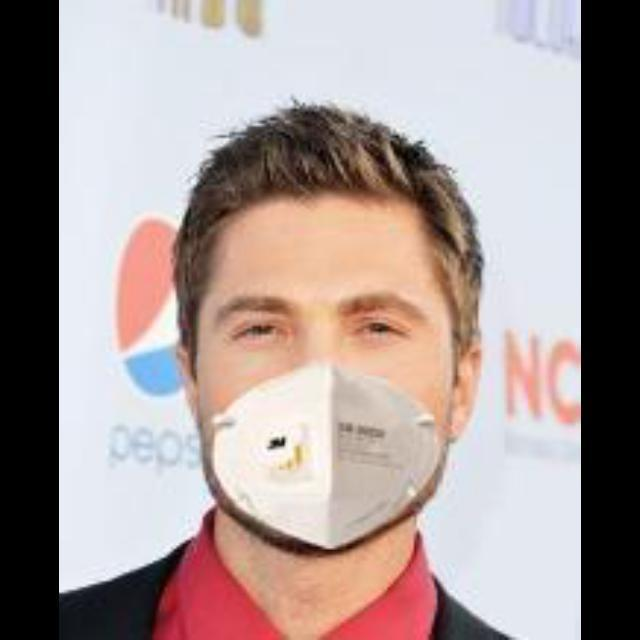suspicion: (217, 149, 498, 551)
